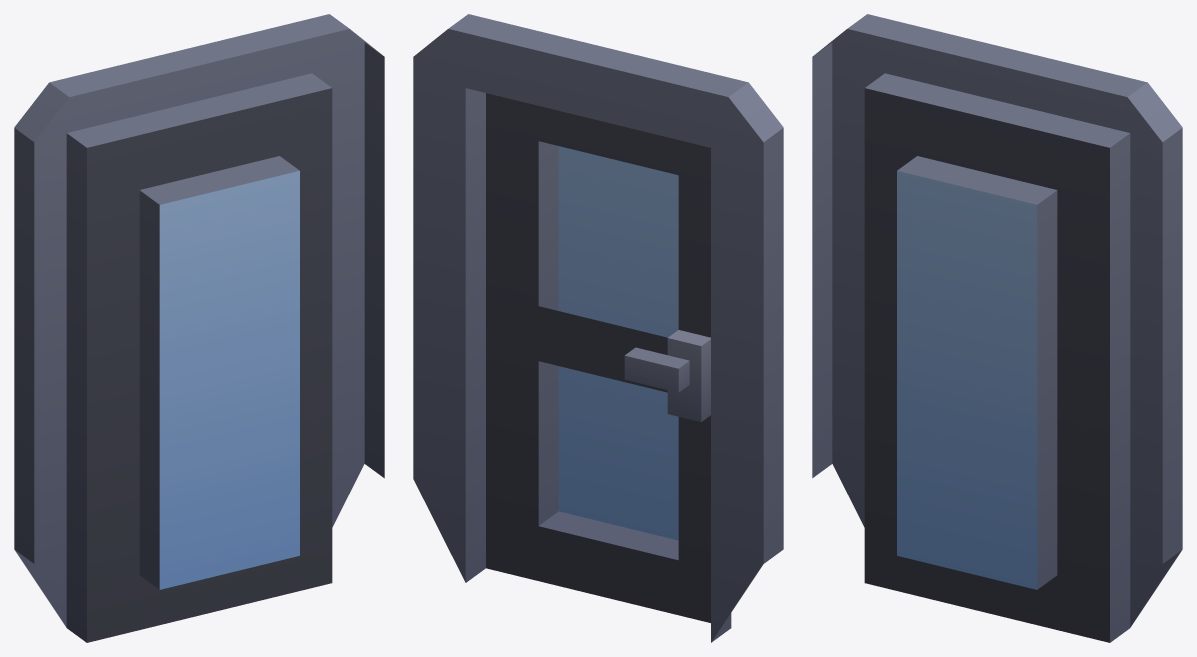
The model's file is puerta-portal.glb.
3 renders of one model, left to right at view 1: azimuth 30°, elevation 25°; view 2: azimuth 150°, elevation 25°; view 3: azimuth 330°, elevation 25°, orthographic.
Parts seen in each view (by area): view 1: hoja-i, marco; view 2: hoja-i, marco; view 3: hoja-i, marco.
Boxes of the visible parts, <box> form: hoja-i: <box>67,73,332,642</box>; marco: <box>14,14,384,642</box>; hoja-i: <box>486,93,710,622</box>; marco: <box>413,14,783,642</box>; hoja-i: <box>864,73,1129,642</box>; marco: <box>812,14,1182,642</box>.
Bounding box in the file's own units: 0.2 × 0.3 × 0.042.
Materials: 1 (1 with a texture image).
